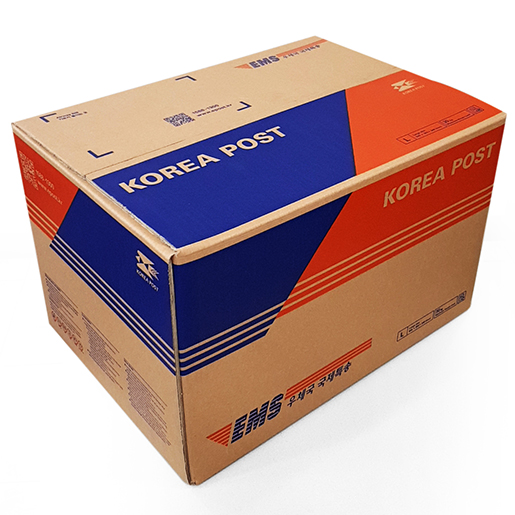undamaged: (14, 35, 505, 492)
